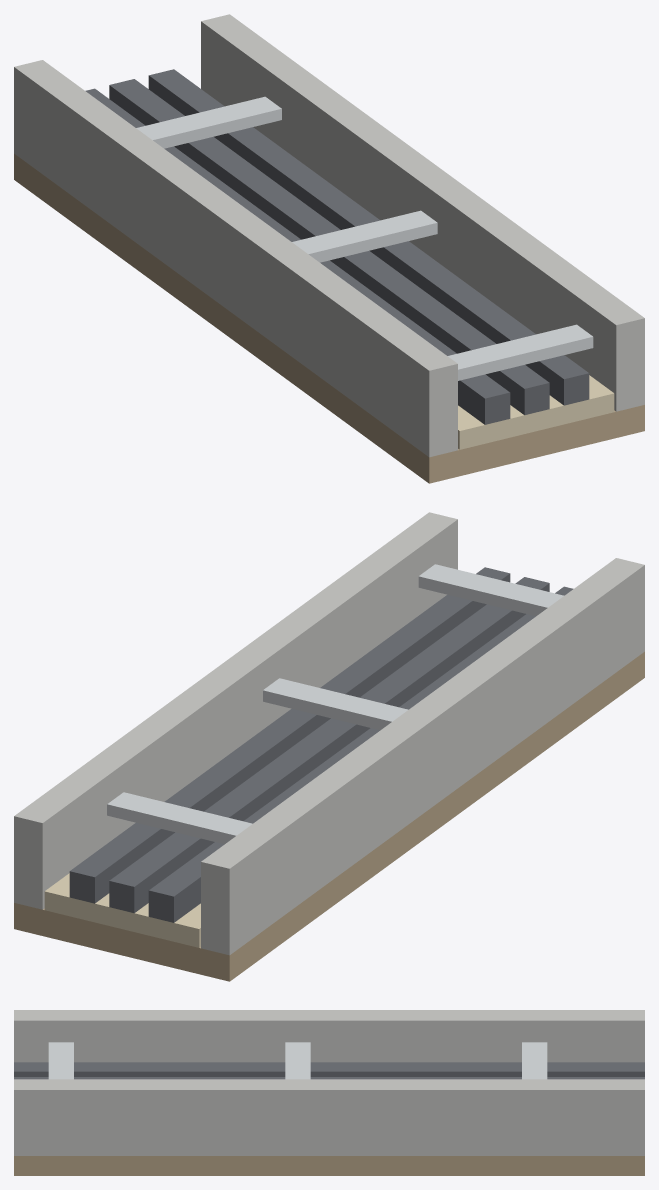
File: radio-telescope-array-and-field-station-cable-trench-s-676ff55c__37623.glb
3 views of the same model, one above another, from view 1: azimuth 30°, elevation 25°; view 2: azimuth 150°, elevation 25°; view 3: azimuth 270°, elevation 25° (orthographic). The views are drawn at different scales.
Visible parts, largest first — view 1: cable-trench-section; view 2: cable-trench-section; view 3: cable-trench-section.
Boxes of the visible parts, x1,y1,x2,y2 form: cable-trench-section: (14, 14, 644, 483); cable-trench-section: (14, 512, 644, 981); cable-trench-section: (14, 1010, 644, 1175).
Bounding box in the file's own units: 1.2 × 0.6001 × 4.
